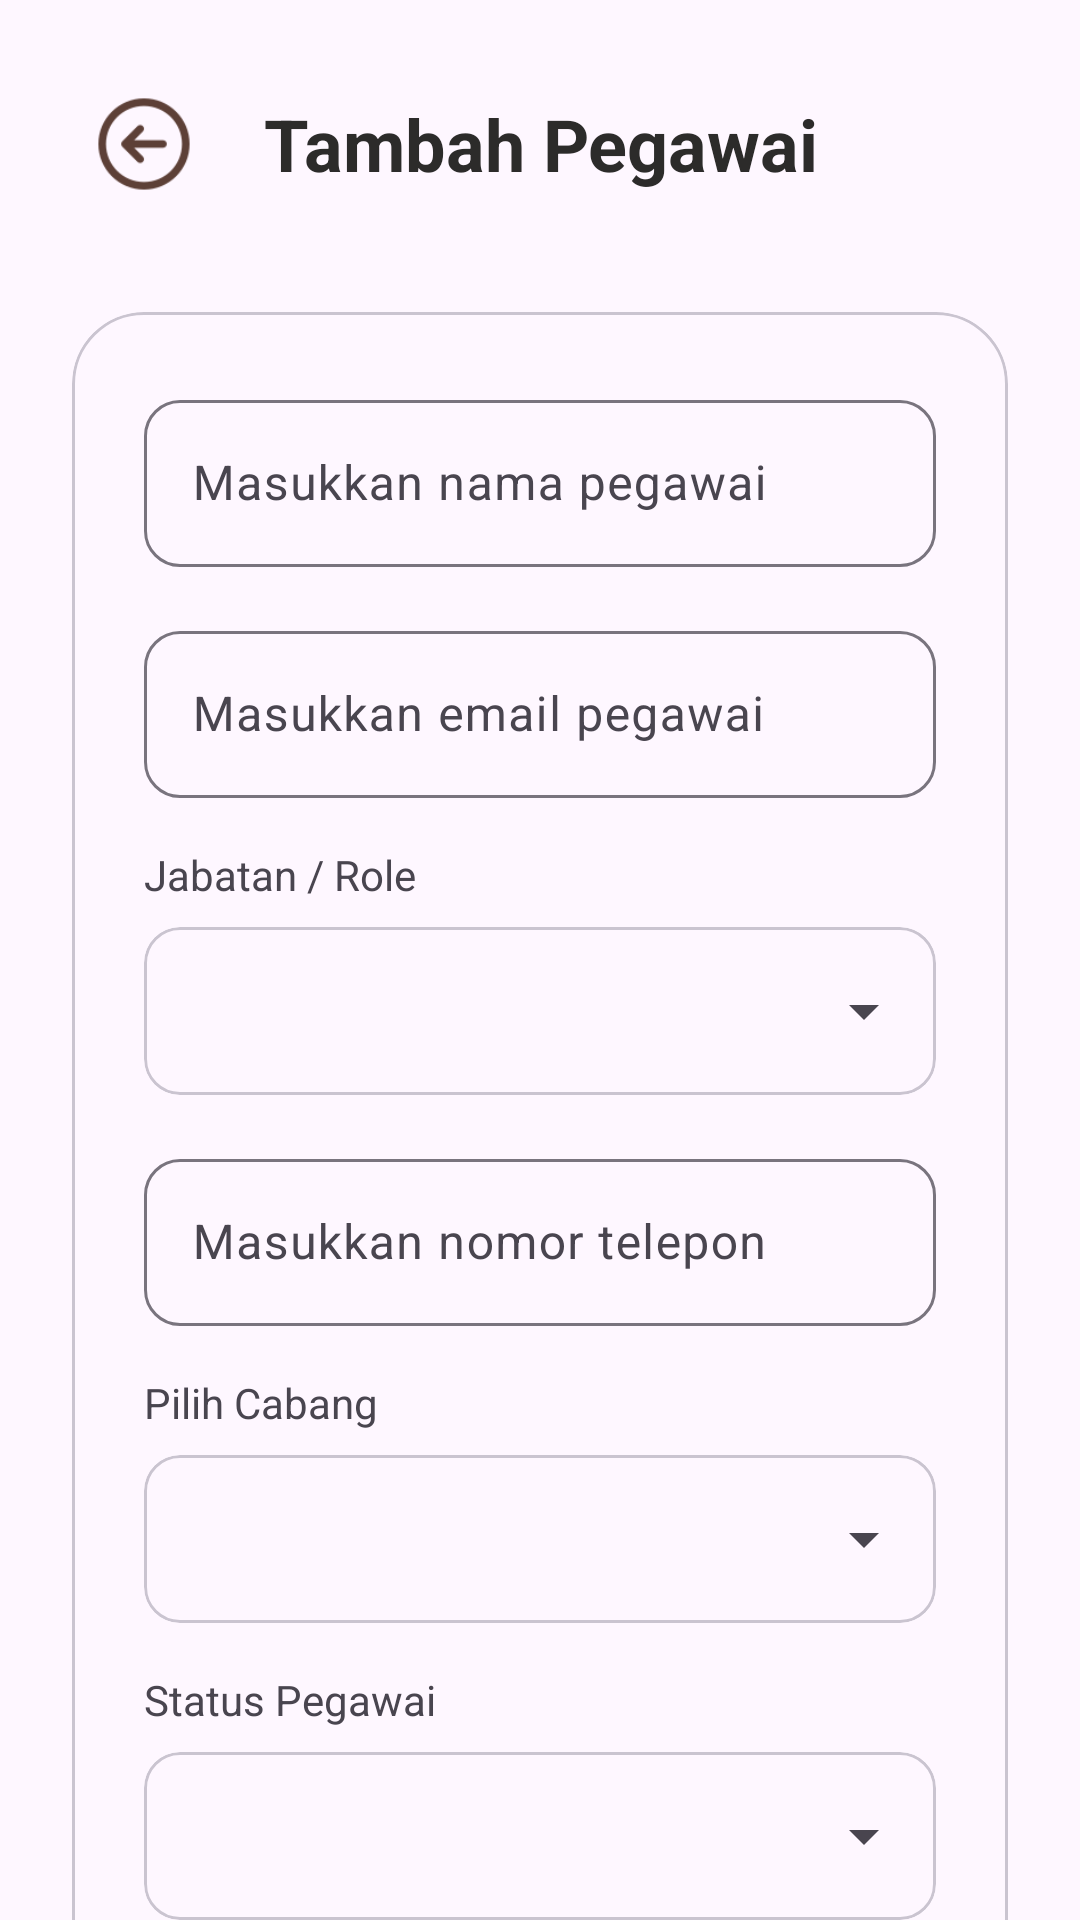

Icon click points for this 1080 x 1920 phone screenshot, format (x=x, y=y):
back: (x=144, y=144)
